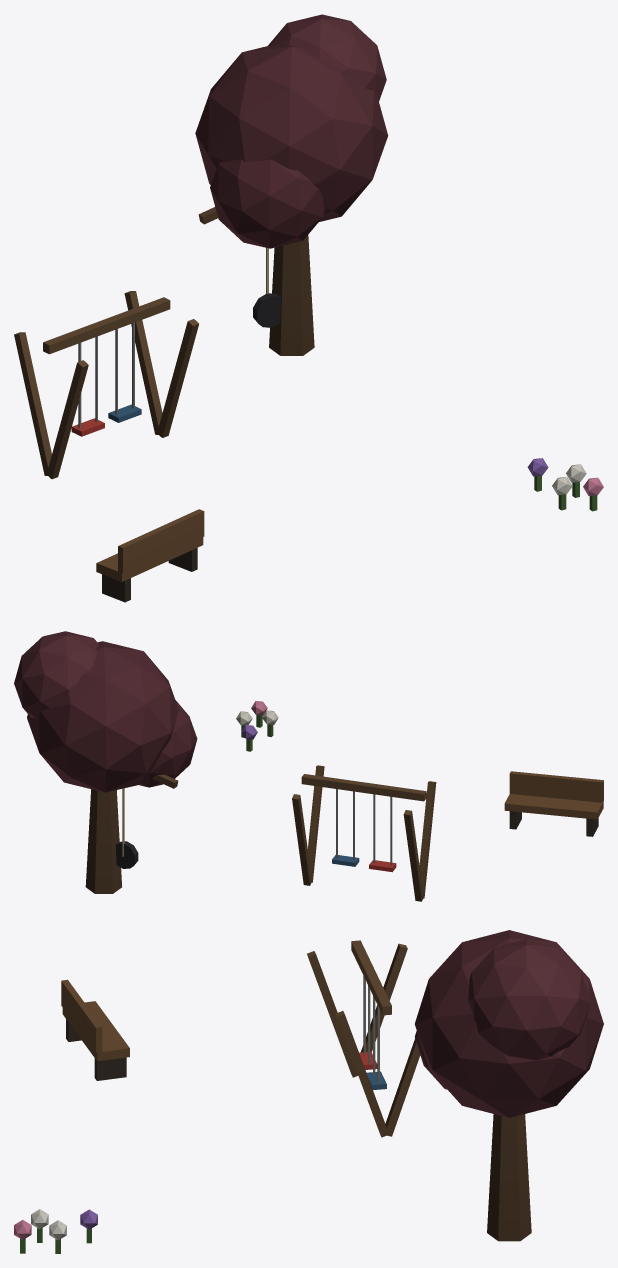
The model's file is playground.glb.
3 renders of one model, top to bottom at view 1: azimuth 30°, elevation 25°; view 2: azimuth 150°, elevation 25°; view 3: azimuth 270°, elevation 25°, orthographic. The views are drawn at different scales.
Parts seen in each view (by area): view 1: playground_model; view 2: playground_model; view 3: playground_model.
Boxes of the visible parts, bbox=[...] form: playground_model: bbox=[14, 14, 603, 602]; playground_model: bbox=[14, 631, 603, 901]; playground_model: bbox=[14, 930, 603, 1253].
Bounding box in the file's own units: 0.8248 × 0.4912 × 0.8571.
